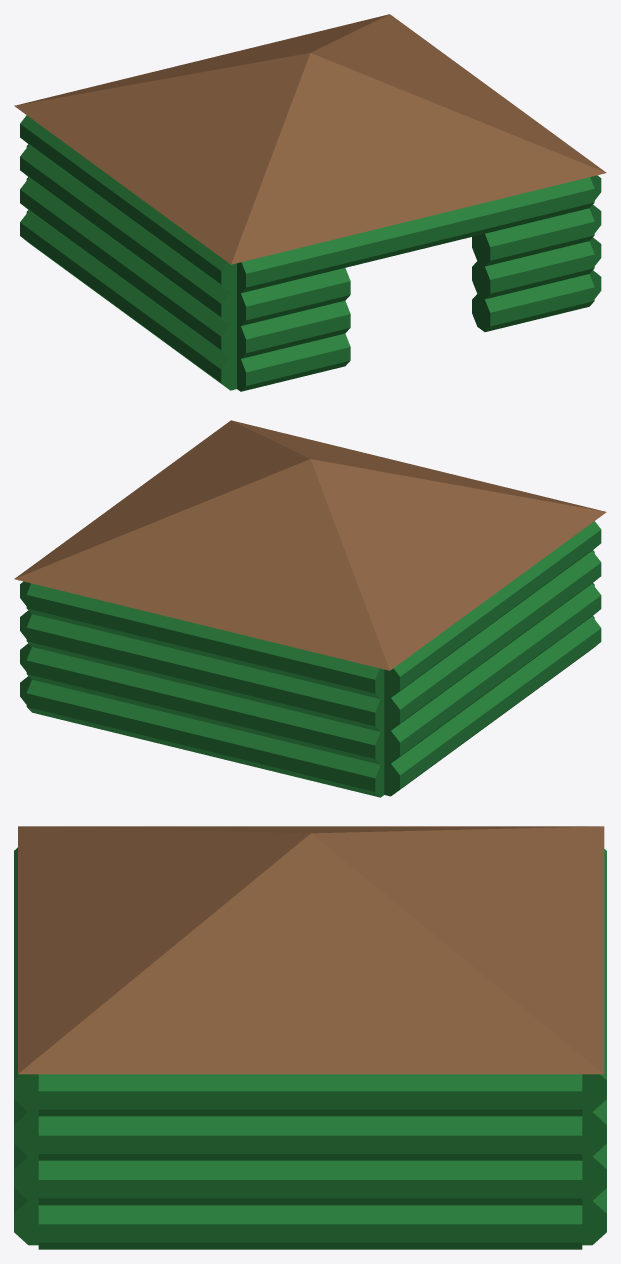
The model's file is ExportedBlenderFBXFile.fbx.
3 views of the same model, one above another, from view 1: azimuth 30°, elevation 25°; view 2: azimuth 150°, elevation 25°; view 3: azimuth 270°, elevation 25° (orthographic). The views are drawn at different scales.
Visible parts, largest first — view 1: Cube; view 2: Cube; view 3: Cube.
Boxes of the visible parts, left/top/right/bottom form: Cube: left=14, top=14, right=606, bottom=391; Cube: left=14, top=420, right=606, bottom=797; Cube: left=14, top=826, right=606, bottom=1249.
Bounding box in the file's own units: 10.9 × 6.03 × 10.9.
